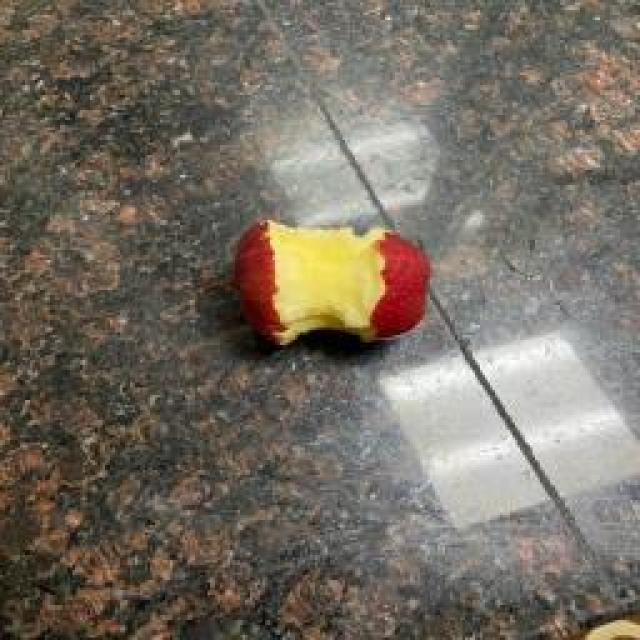Apple: (235, 221, 430, 345)
